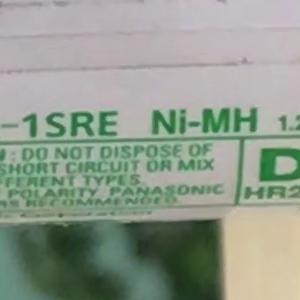keyword: (147, 99, 259, 150)
